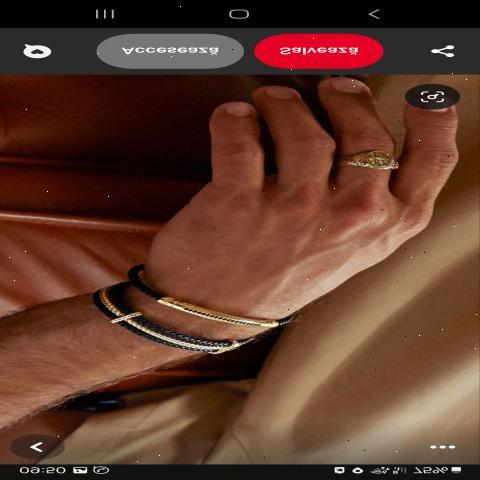Hands: (80, 74, 466, 342)
